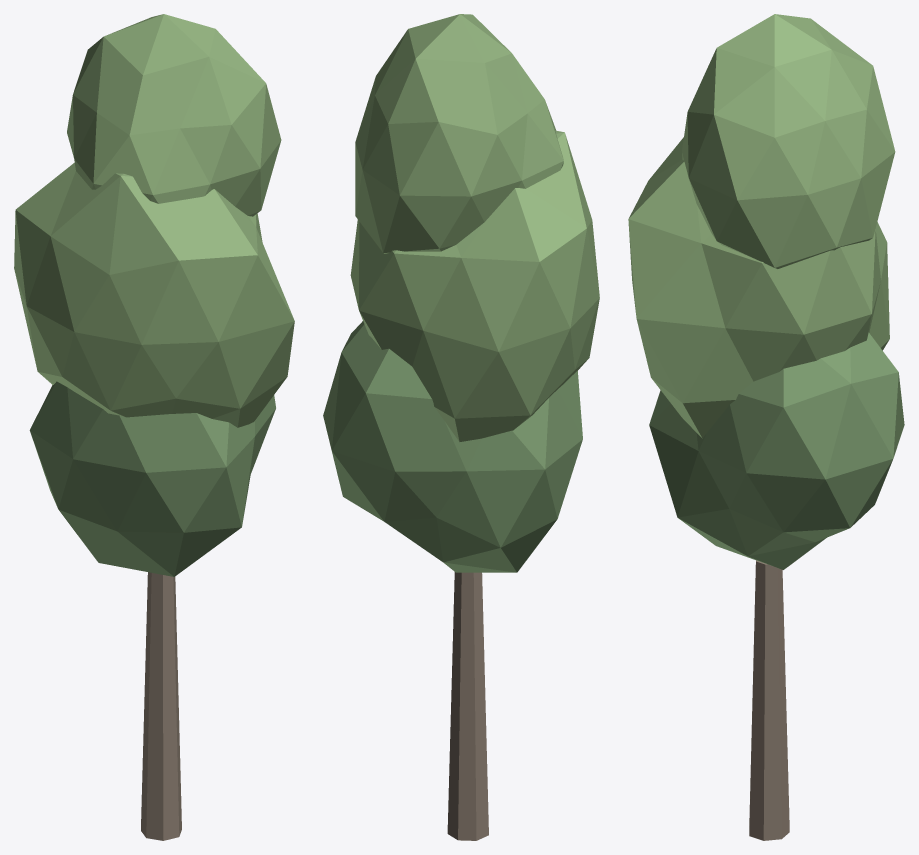
The model's file is tree_tall.glb.
3 views of the same model, side by side, from view 1: azimuth 30°, elevation 25°; view 2: azimuth 150°, elevation 25°; view 3: azimuth 270°, elevation 25° (orthographic).
Parts seen in each view (by area): view 1: tree_tall; view 2: tree_tall; view 3: tree_tall.
Boxes of the visible parts, x1,y1,x2,y2 form: tree_tall: (14,14,294,840); tree_tall: (323,14,599,840); tree_tall: (628,14,904,840).
Size of the model in its own units: 2.17 by 7.21 by 2.2.
